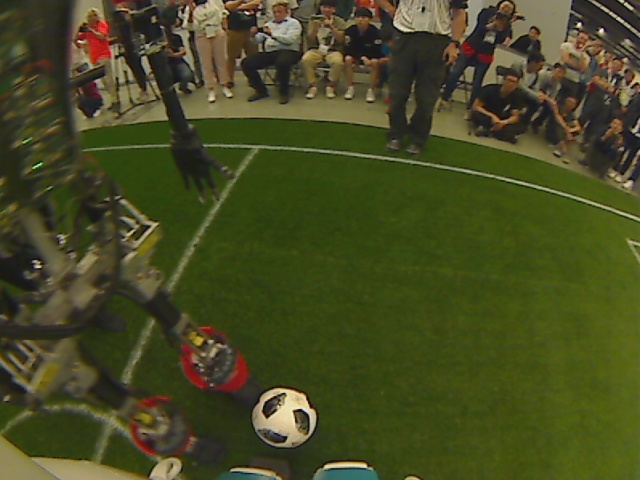ball: (250, 385, 317, 450)
